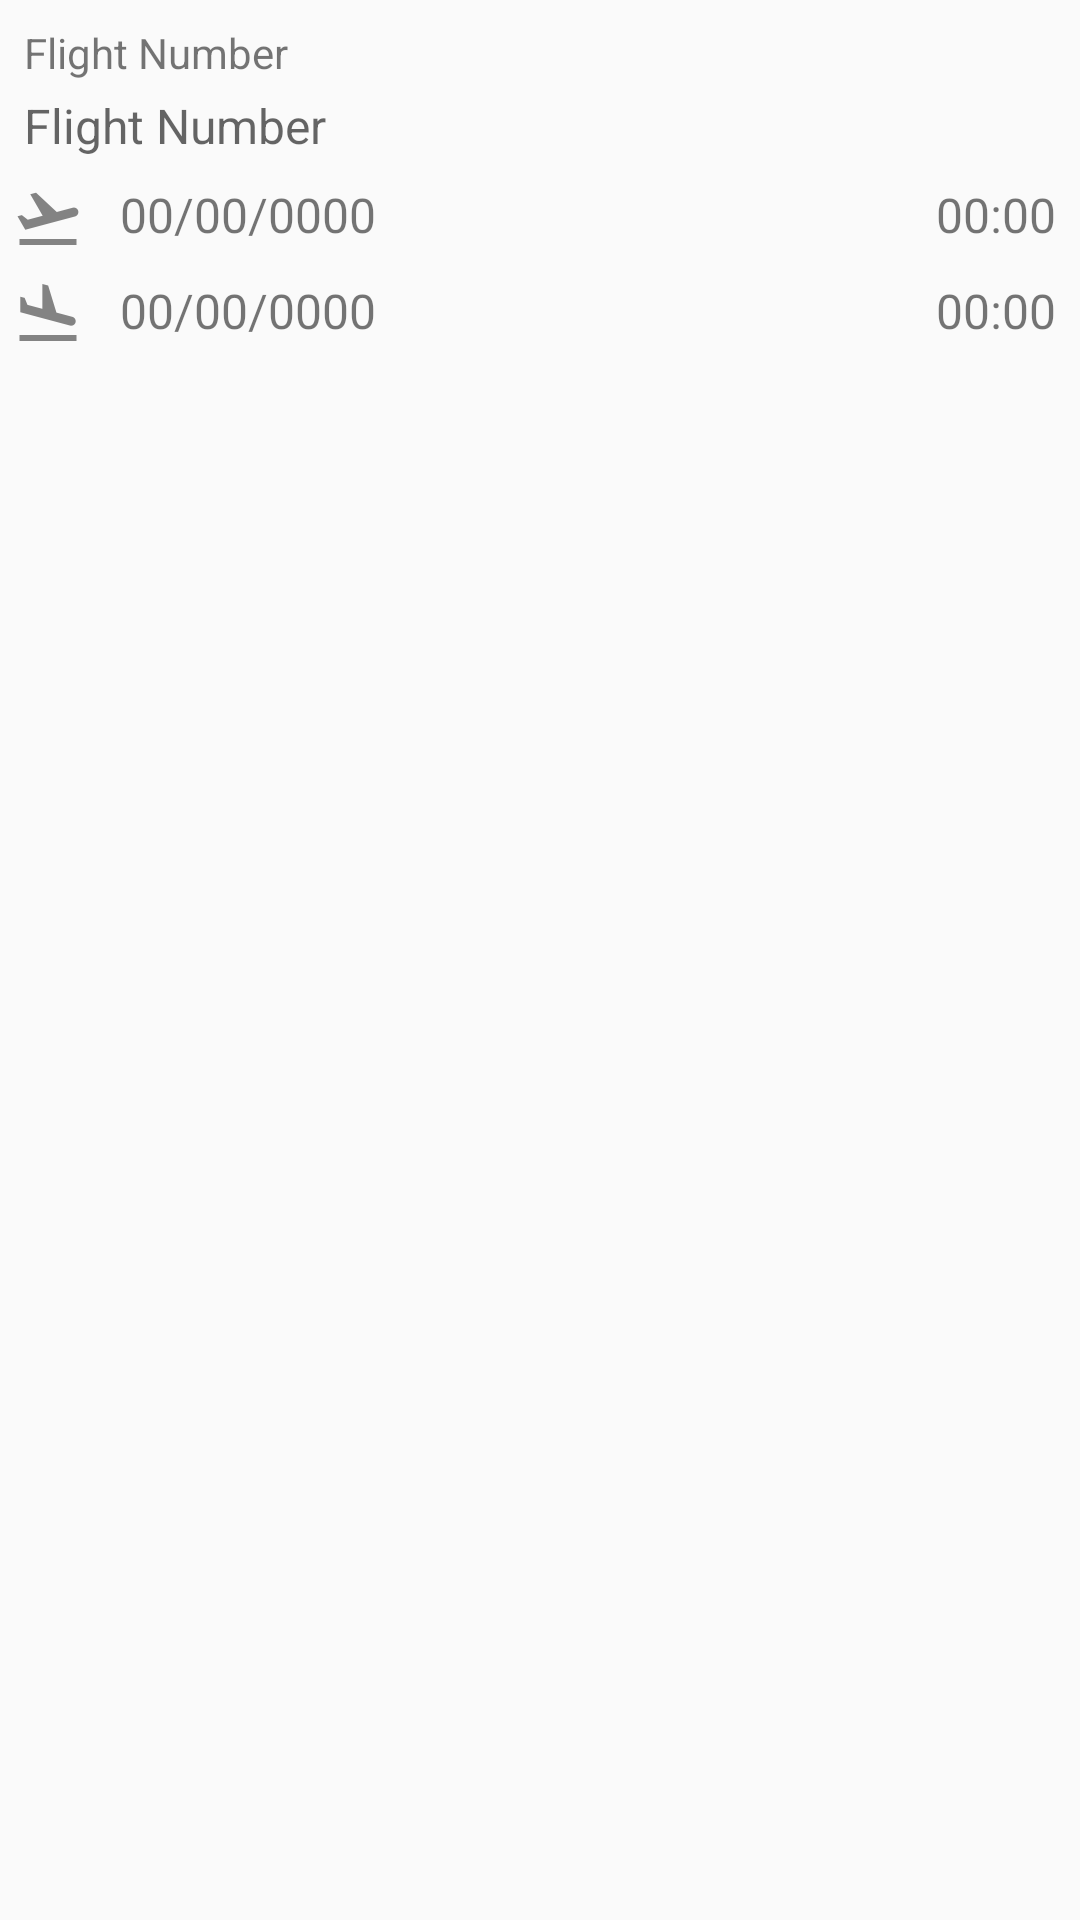

Screen size 1080px x 1920px. Icon name, then its center in pixels as (x=x, y=y):
Land Icon: (x=48, y=312)
Take Off Icon: (x=48, y=219)
